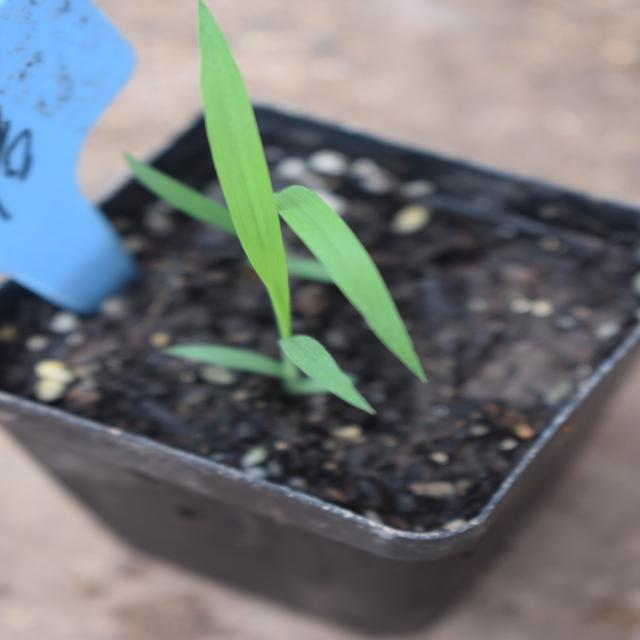crabgrass: (246, 148, 624, 440)
